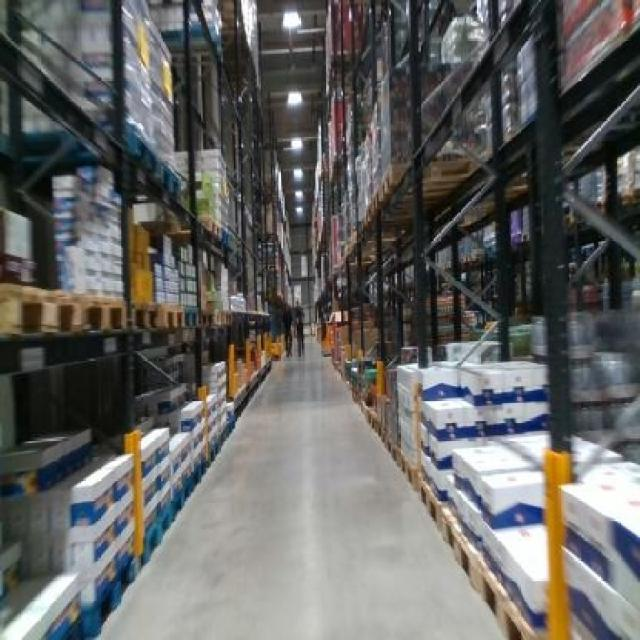pallets: (397, 360, 546, 623), (563, 435, 637, 637), (560, 460, 637, 606)
